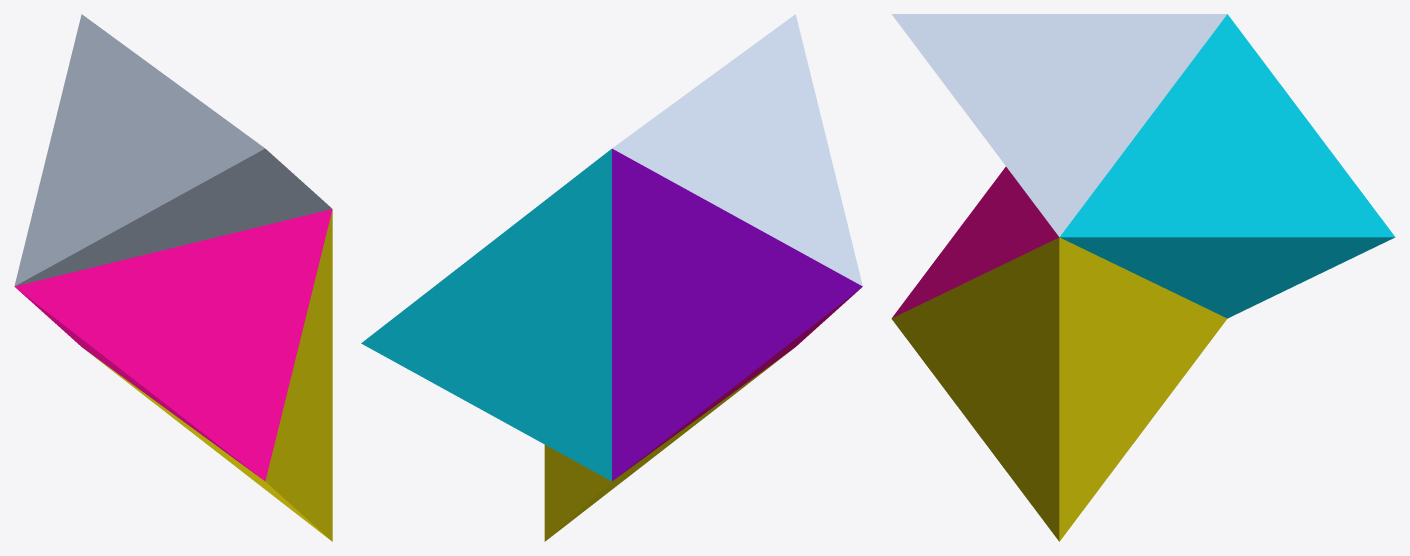
Rendered from TetragonalDisphenoidal_12.glb.
3 views of the same model, side by side, from view 1: azimuth 30°, elevation 25°; view 2: azimuth 150°, elevation 25°; view 3: azimuth 270°, elevation 25° (orthographic). The views are drawn at different scales.
Size of the model in its own units: 4 by 6 by 6.
